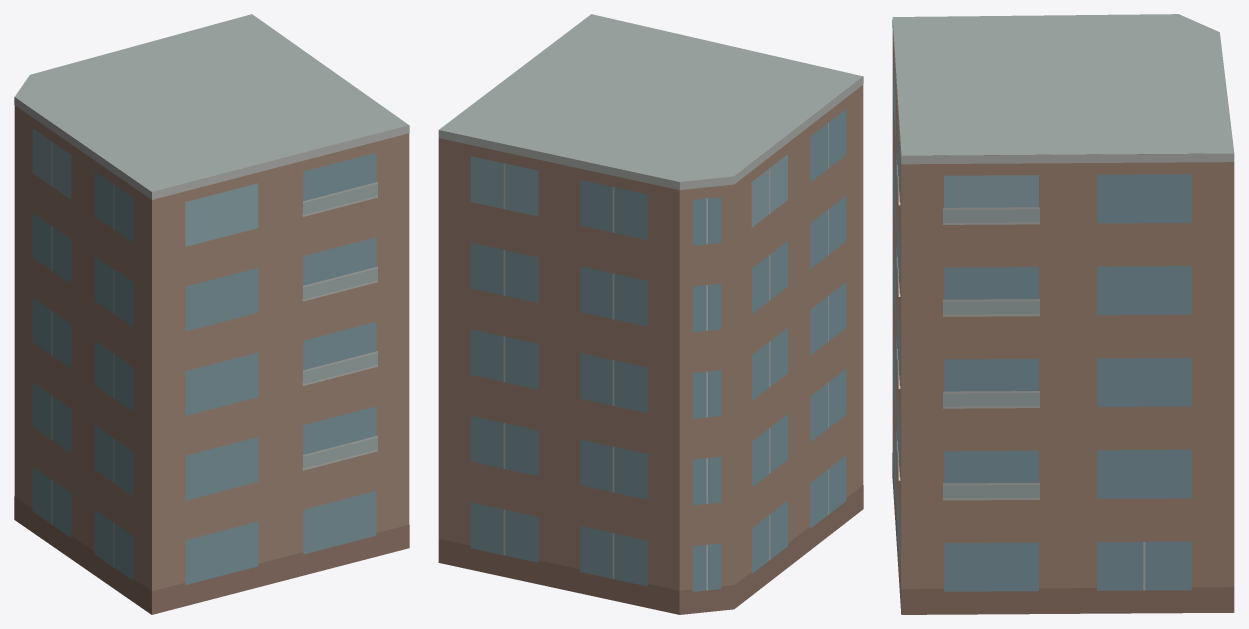
The model's file is survey-upis-32871552.glb.
3 renders of one model, left to right at view 1: azimuth 30°, elevation 25°; view 2: azimuth 150°, elevation 25°; view 3: azimuth 270°, elevation 25°, orthographic. The views are drawn at different scales.
Parts seen in each view (by area): view 1: survey-upis-32871552.tmp; view 2: survey-upis-32871552.tmp; view 3: survey-upis-32871552.tmp.
Part boxes in pixels (<box>): survey-upis-32871552.tmp: <box>14,14,409,614</box>; survey-upis-32871552.tmp: <box>438,14,863,614</box>; survey-upis-32871552.tmp: <box>892,14,1234,614</box>.
Bounding box in the file's own units: 8.63 × 13 × 8.78.
